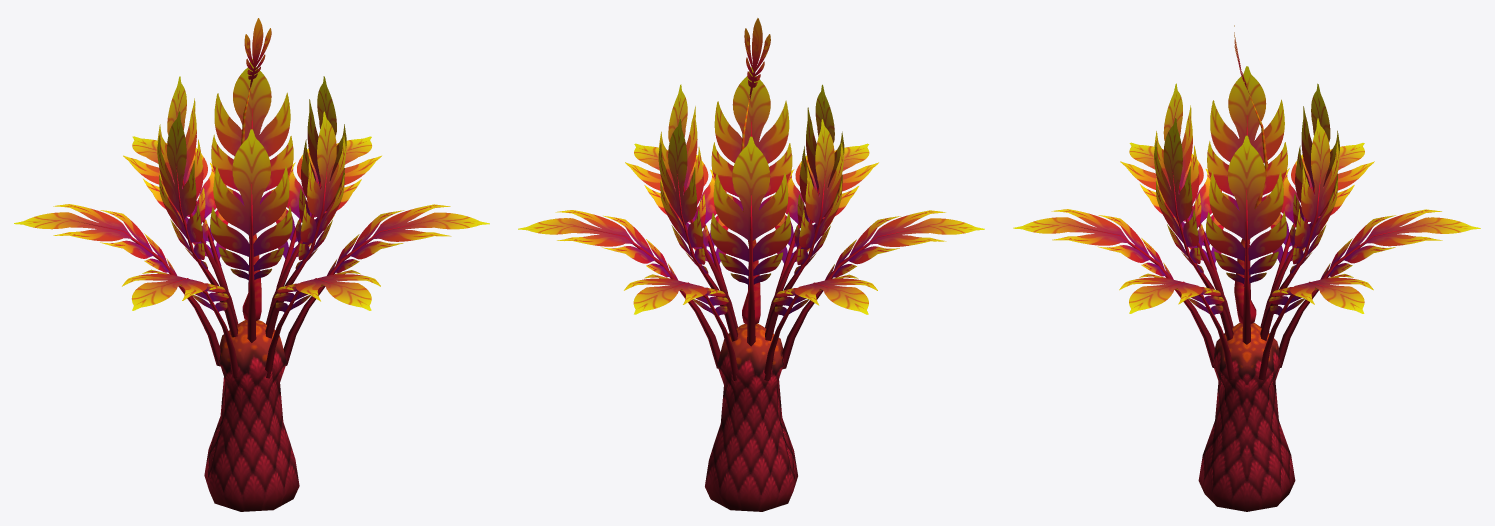
Rendered from Red_Tree_04c.FBX.
3 views of the same model, side by side, from view 1: azimuth 30°, elevation 25°; view 2: azimuth 150°, elevation 25°; view 3: azimuth 270°, elevation 25° (orthographic).
Parts seen in each view (by area): view 1: Red_Tree_04c; view 2: Red_Tree_04c; view 3: Red_Tree_04c.
Part boxes in pixels (x1,y1,x2,y2): Red_Tree_04c: (14,18,489,511); Red_Tree_04c: (518,18,984,511); Red_Tree_04c: (1013,25,1480,511).
Size of the model in its own units: 313 by 362 by 324.
